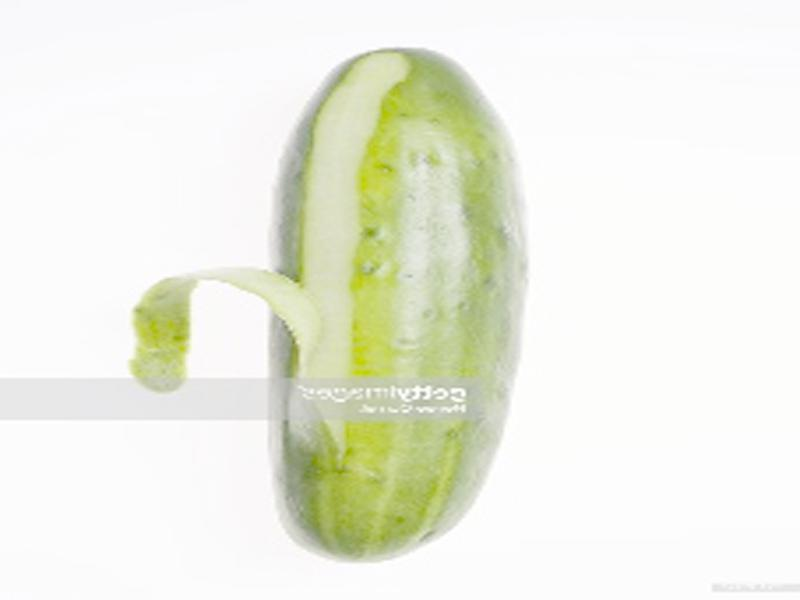Cucumber: (263, 45, 524, 563)
